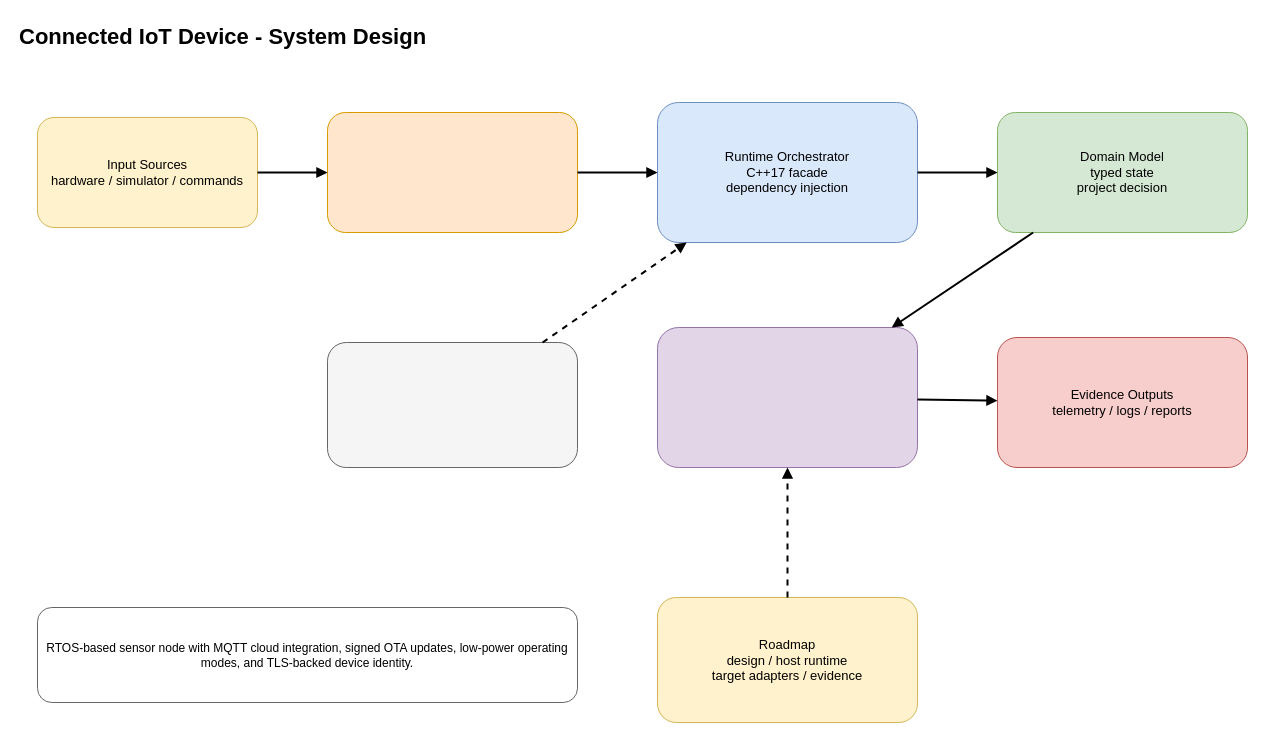
Image size: 1265x740. Some labels were removed from this diagram. Each missing label, with the centre of its shape:
"Adapter Layer bus / OS / driver / transport" goes at pixel 452 172.
"Policy Gates safety / readiness resource limits" goes at pixel 787 397.
"Validation CTest / CI hardware evidence" goes at pixel 452 405.
